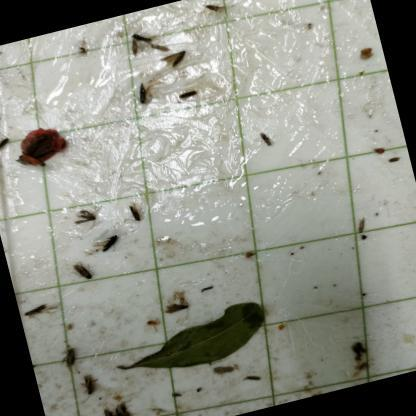prays_oleae: (158, 41, 199, 79), (160, 288, 197, 328), (66, 259, 102, 297), (21, 295, 59, 331), (123, 24, 158, 57), (75, 370, 106, 406), (120, 197, 150, 234), (68, 203, 101, 231), (254, 123, 279, 159), (53, 344, 84, 373), (95, 232, 125, 260), (0, 123, 16, 162), (134, 79, 152, 111)
